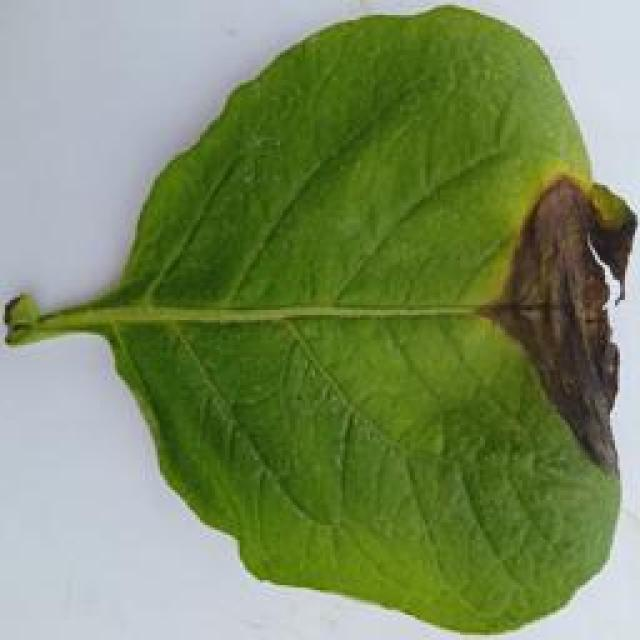Potato_Late_Blight: (2, 9, 625, 635)
